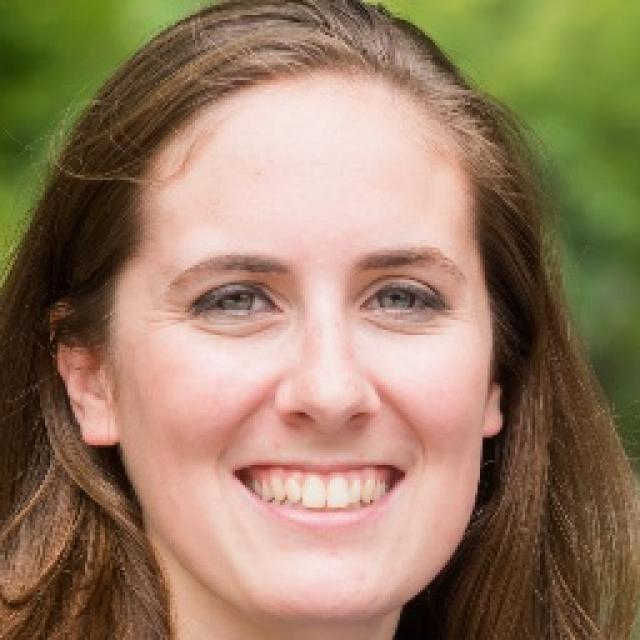earlobe: (52, 302, 122, 447)
